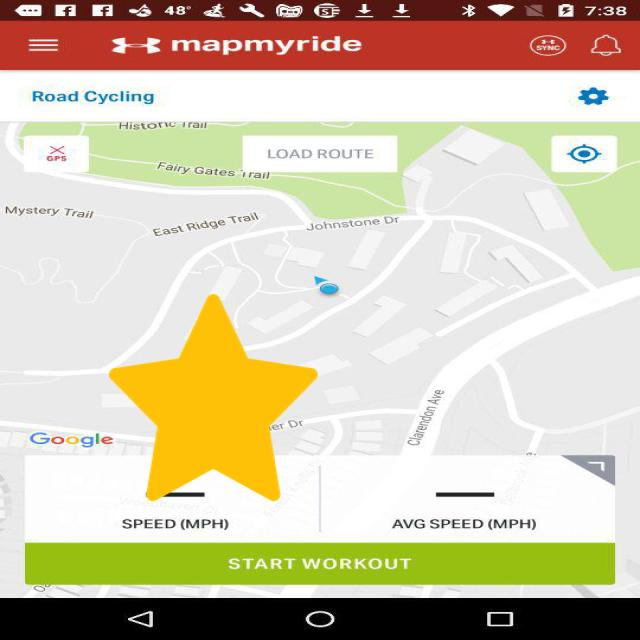forced continuity: (109, 294, 318, 501)
